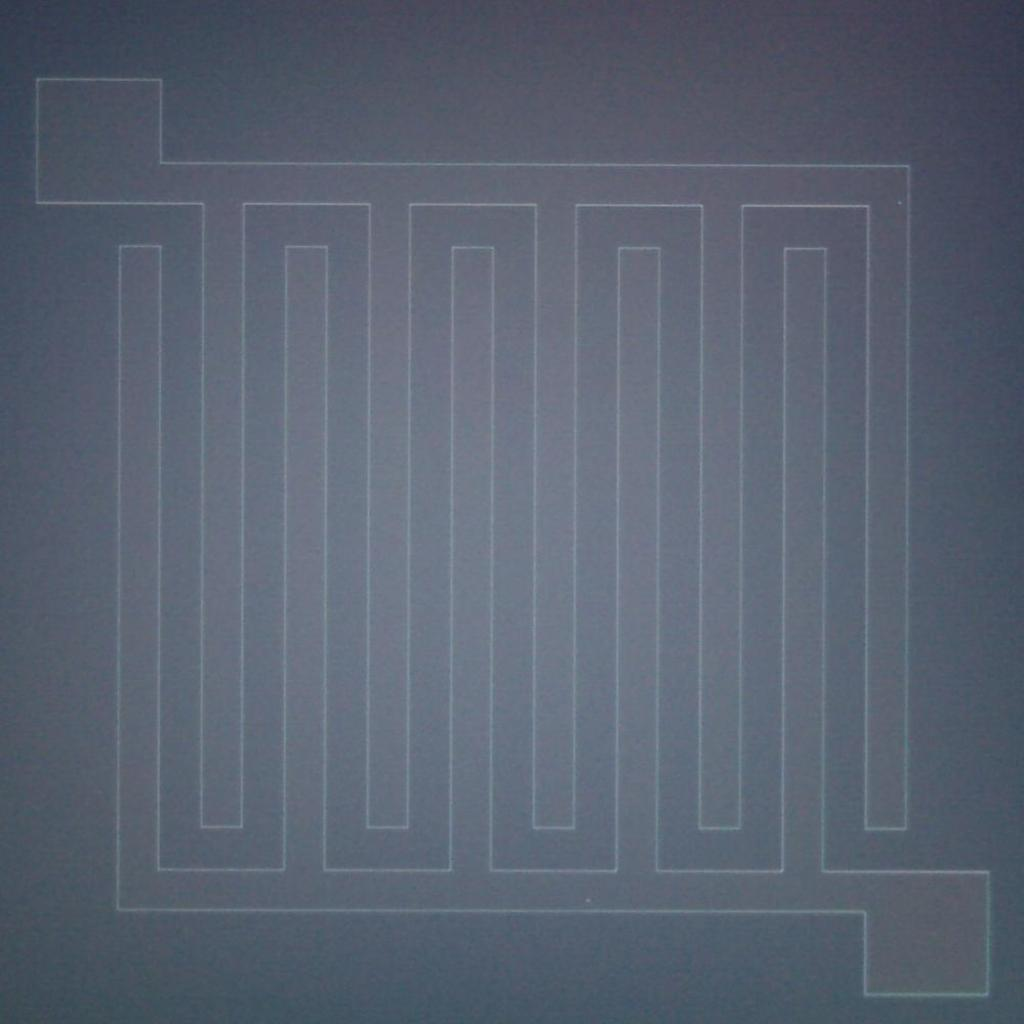dot: (586, 898, 590, 902), (898, 201, 902, 205)
